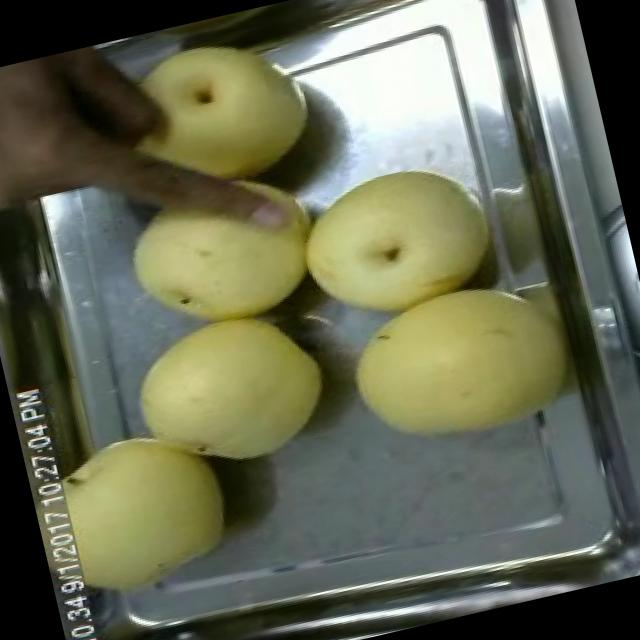Fruit: (332, 256, 590, 469), (95, 146, 348, 356), (103, 0, 334, 217), (110, 288, 346, 492), (277, 143, 508, 342), (53, 410, 247, 612)
